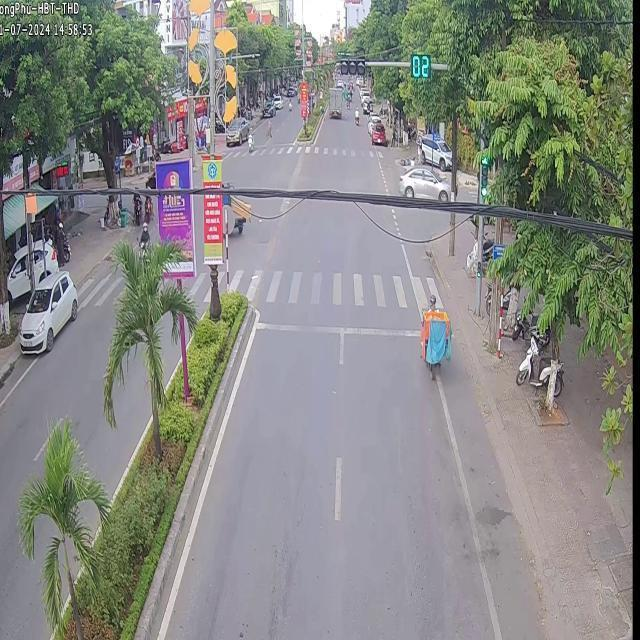green_light: (478, 151, 488, 200), (338, 56, 364, 74)
motobike: (418, 294, 449, 375)
stop_line: (255, 318, 418, 336)
